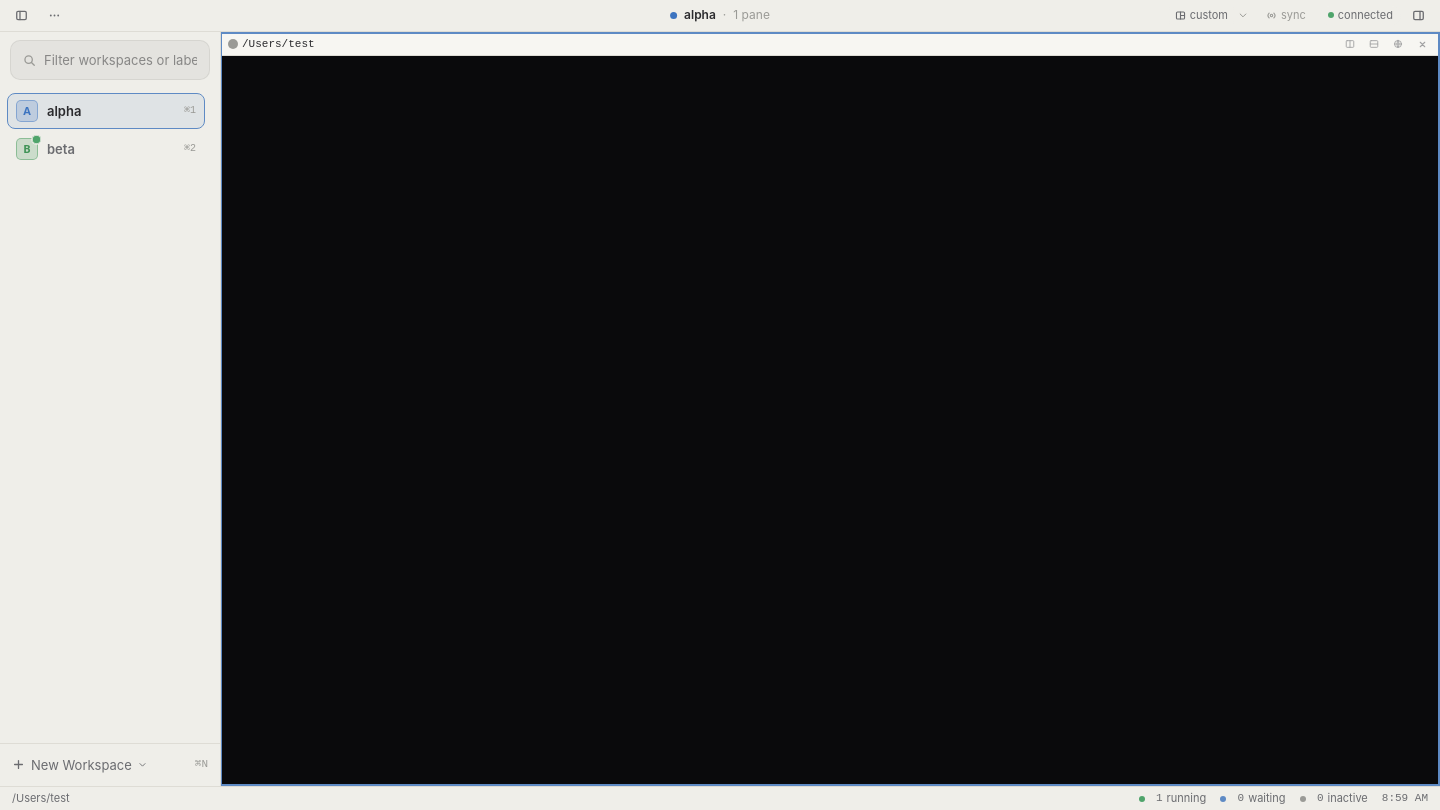
Test: the status footer’s count popover (§APP-076) › jumps across workspaces and lands the caret on the destination surface
The image size is (1440, 810).
Click the button with test id "count-running": [1172, 798] box [1139,787,1206,809]
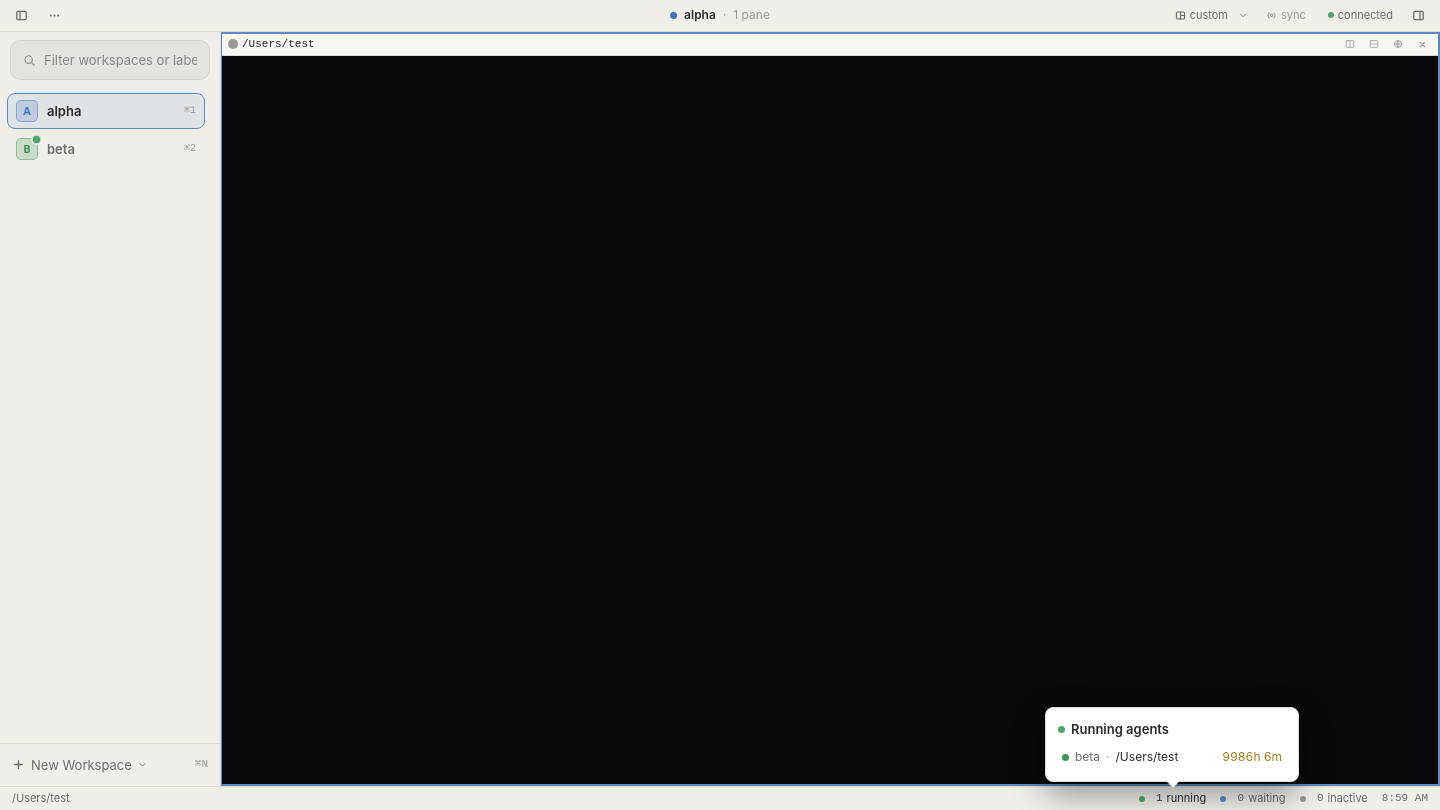
Check: the button with test id "bucket-row" shows "beta"
Click the button with test id "bucket-row": [1172, 758] box [1058,746,1286,769]
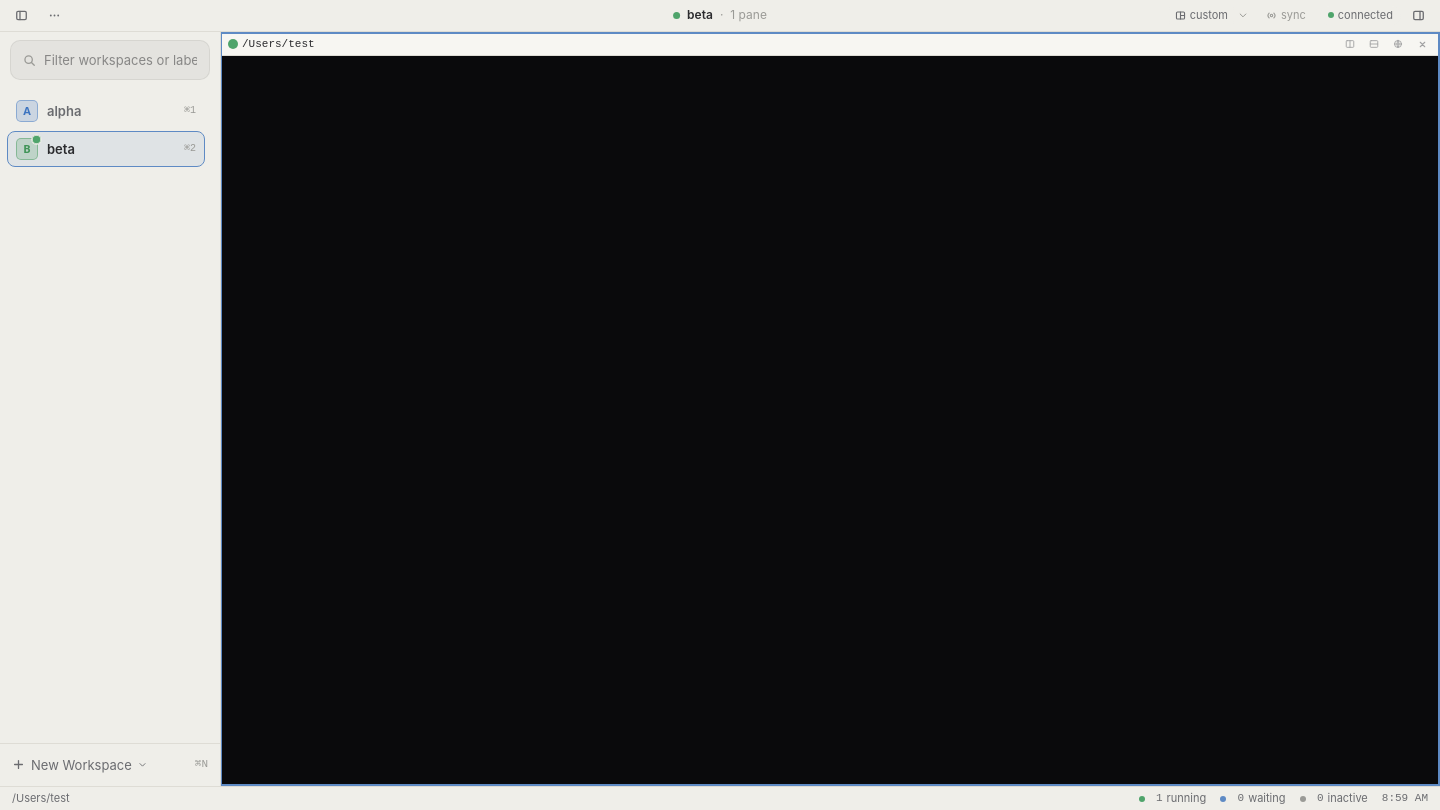
Check: the dialog with test id "bucket-popover" is gone
